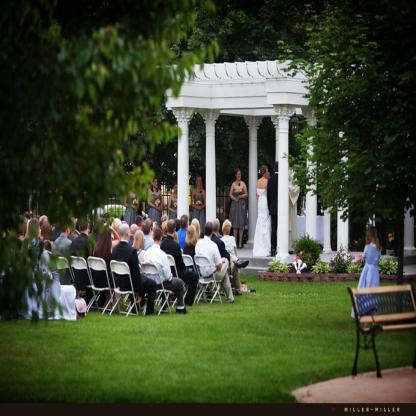face: (68, 224, 72, 235), (24, 221, 28, 230), (154, 181, 159, 188), (238, 172, 242, 180), (199, 178, 203, 186), (266, 169, 269, 178), (175, 186, 178, 193)
